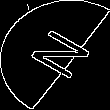N_SE: (17, 24, 93, 86)
